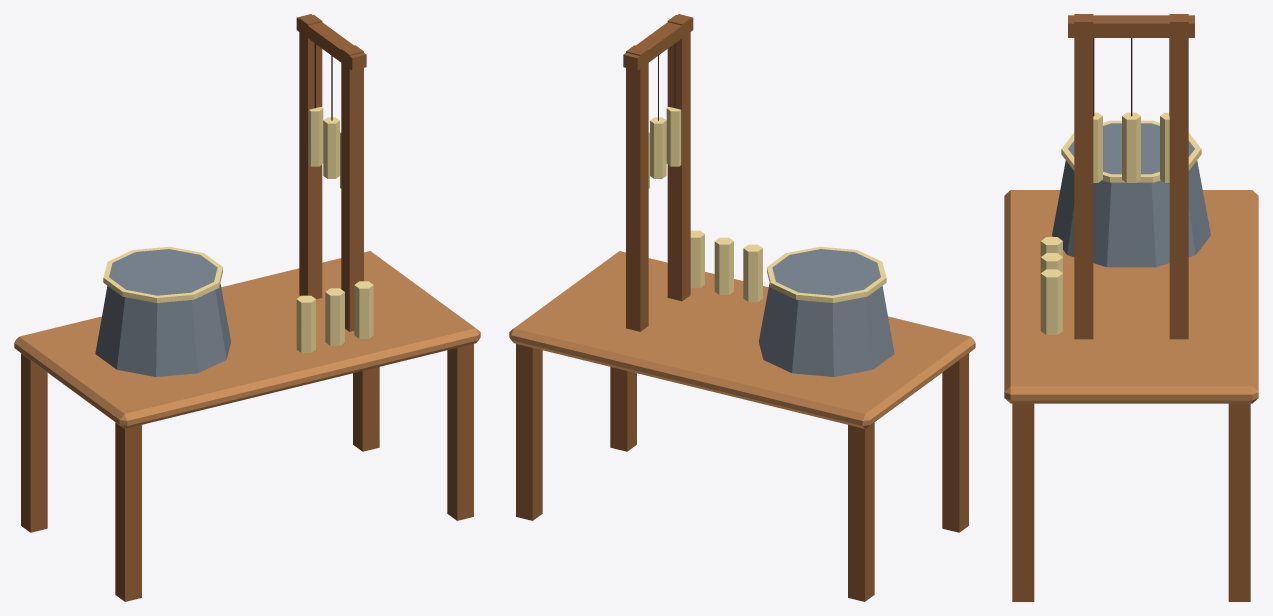
The model's file is station_candle_maker.glb.
3 views of the same model, side by side, from view 1: azimuth 30°, elevation 25°; view 2: azimuth 150°, elevation 25°; view 3: azimuth 270°, elevation 25° (orthographic). The views are drawn at different scales.
Visible parts, largest first — view 1: station_candle_maker; view 2: station_candle_maker; view 3: station_candle_maker.
Part boxes in pixels (<box>): station_candle_maker: <box>14,14,480,601</box>; station_candle_maker: <box>509,14,975,601</box>; station_candle_maker: <box>1004,14,1258,601</box>.
Size of the model in its own units: 1.5 by 1.85 by 0.8.
